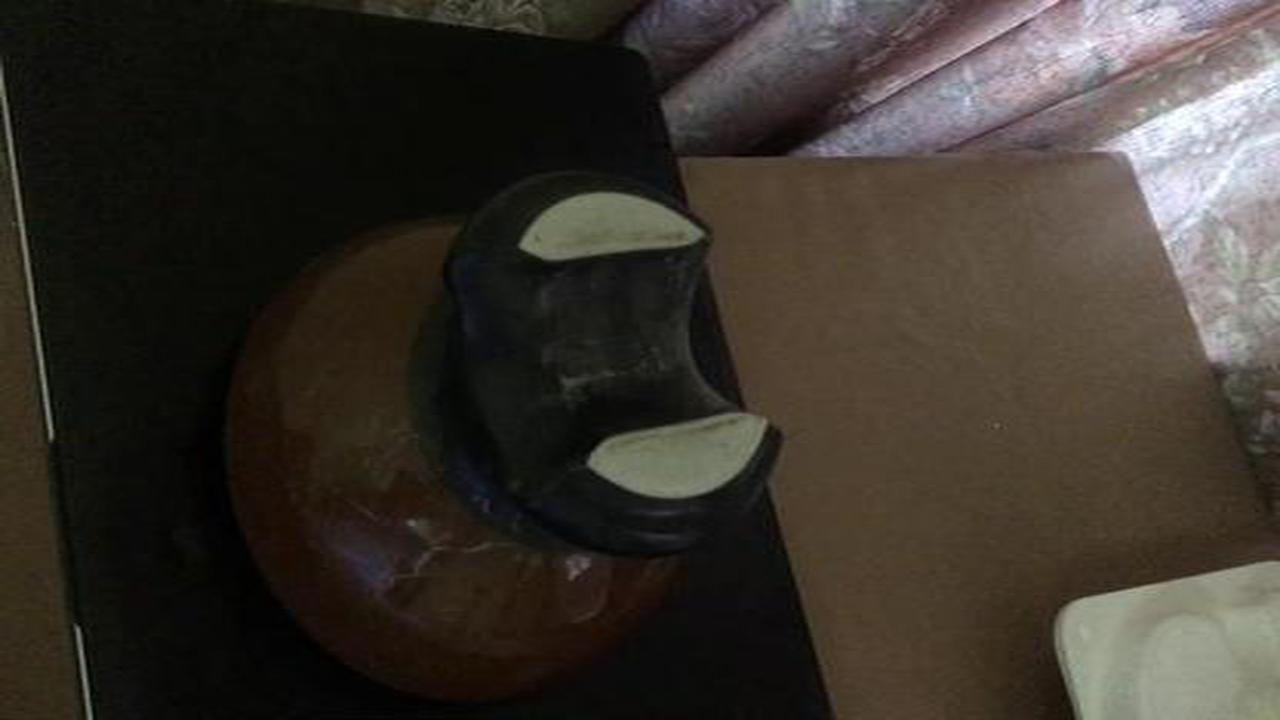insulator_pin: (201, 146, 791, 715)
